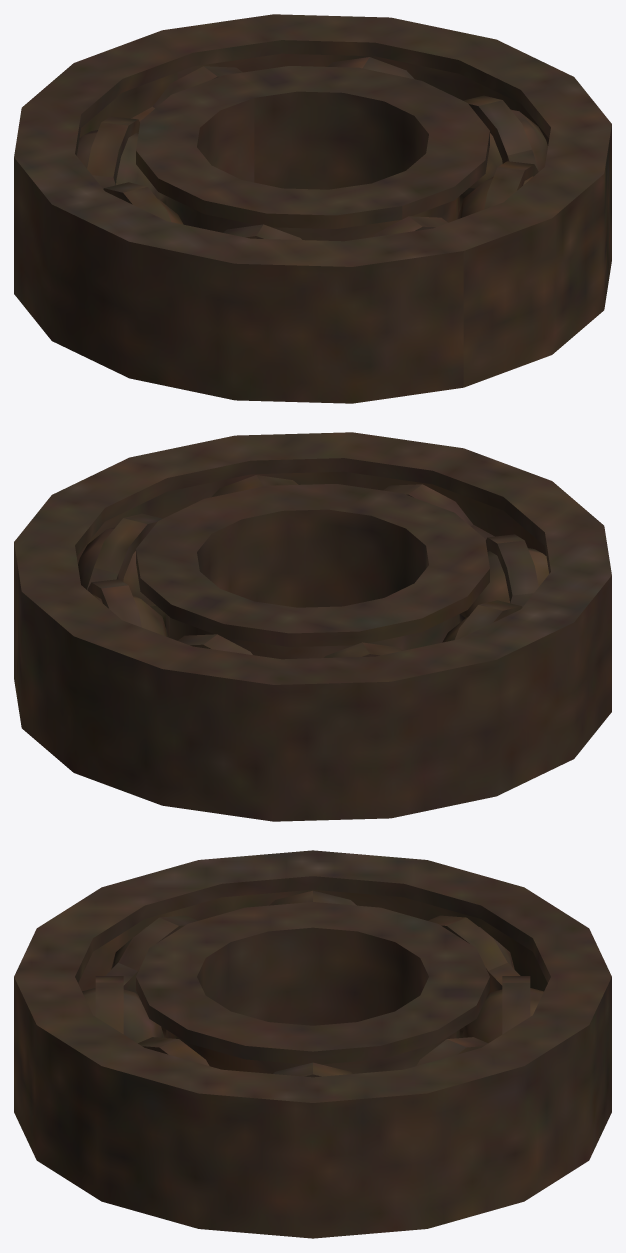
Rendered from ball_bearing_mx_1_small.obj.
3 views of the same model, one above another, from view 1: azimuth 30°, elevation 25°; view 2: azimuth 150°, elevation 25°; view 3: azimuth 270°, elevation 25° (orthographic).
Visible parts, largest first — view 1: ball_bearing_mx_1_small; view 2: ball_bearing_mx_1_small; view 3: ball_bearing_mx_1_small.
Boxes of the visible parts, x1,y1,x2,y2 form: ball_bearing_mx_1_small: (14,14,611,403); ball_bearing_mx_1_small: (14,432,611,821); ball_bearing_mx_1_small: (14,850,611,1238).
Bounding box in the file's own units: 0.1 × 0.025 × 0.1.
